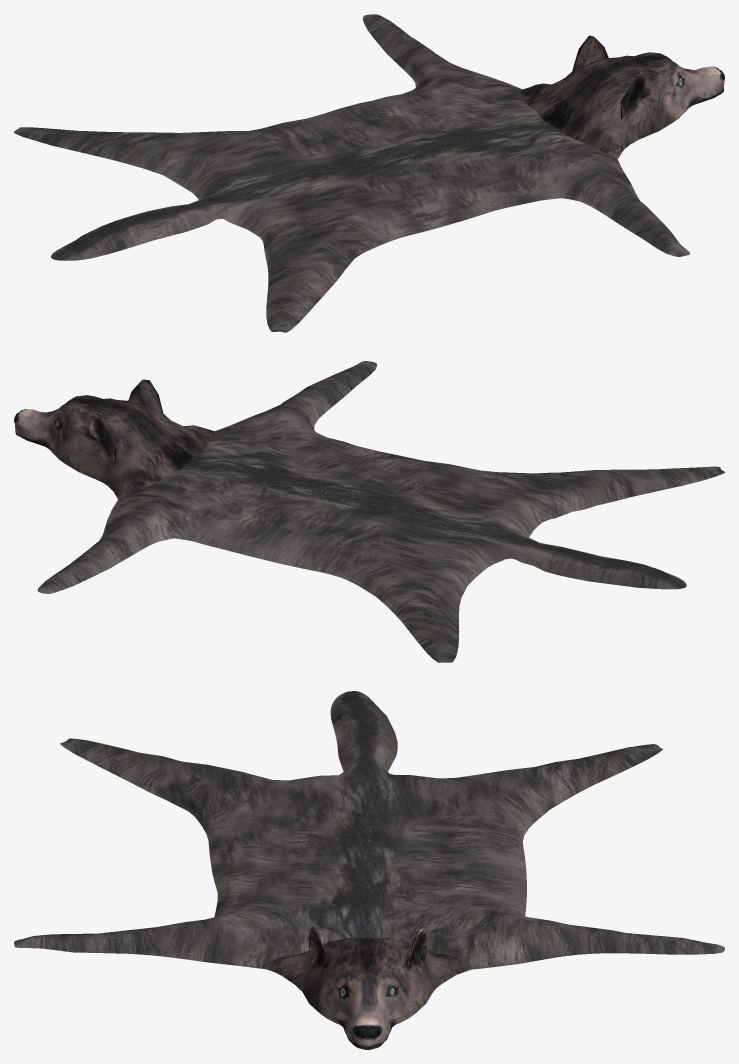
File: WolfFur.fbx
3 renders of one model, top to bottom at view 1: azimuth 30°, elevation 25°; view 2: azimuth 150°, elevation 25°; view 3: azimuth 270°, elevation 25°, orthographic. The views are drawn at different scales.
Visible parts, largest first — view 1: WoldFur_LOD0; view 2: WoldFur_LOD0; view 3: WoldFur_LOD0.
Boxes of the visible parts, x1=… form: WoldFur_LOD0: x1=14, y1=14, x2=724, y2=332; WoldFur_LOD0: x1=14, y1=361, x2=724, y2=662; WoldFur_LOD0: x1=14, y1=691, x2=724, y2=1049.
Size of what is drawn, in the model's own units: 108 by 9.59 by 90.11.
